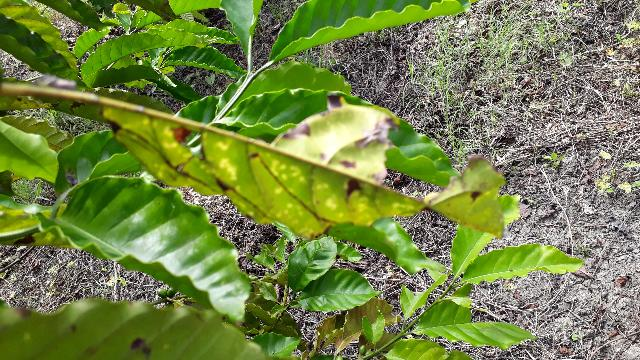rust_level_4: (9, 81, 505, 239)
